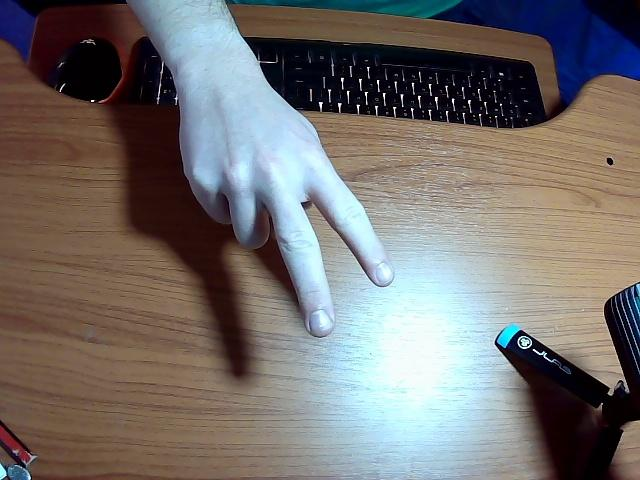scissors: (129, 0, 394, 336)
